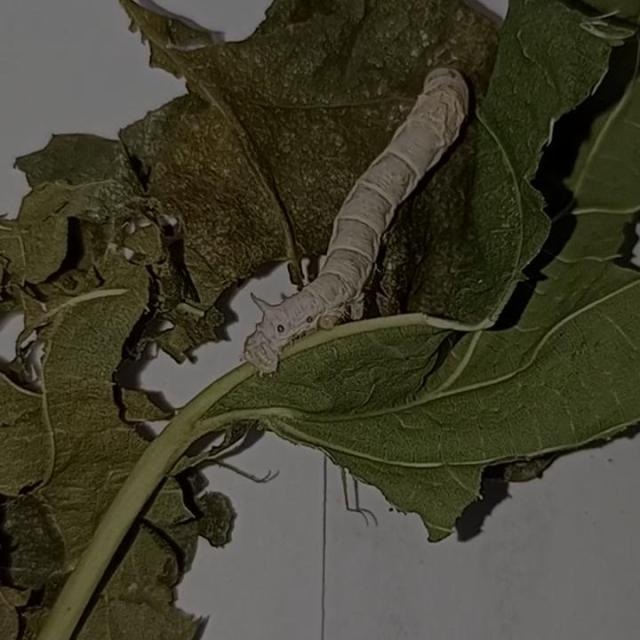Healthy: (224, 26, 511, 431)
